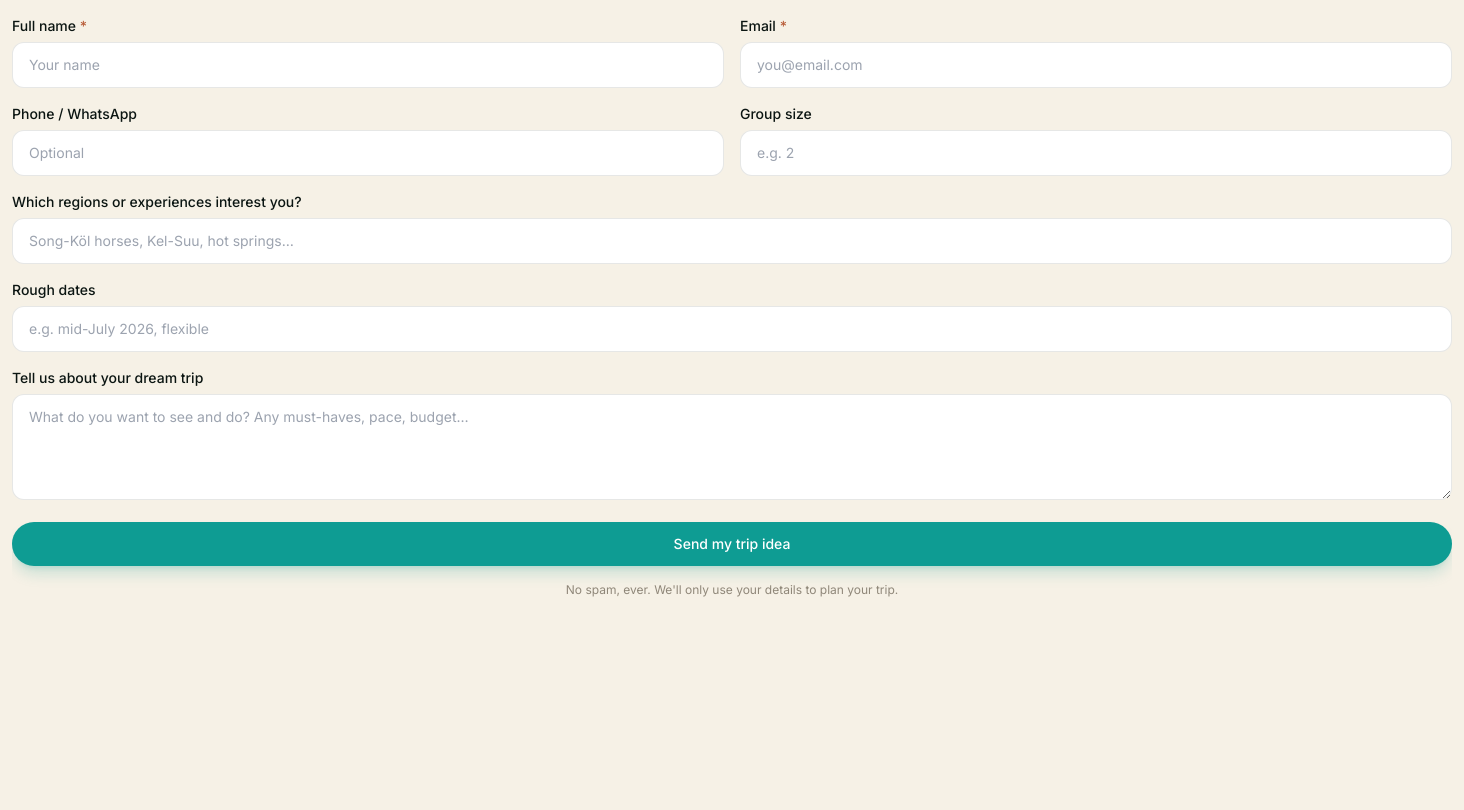
Test case: InquiryForm › posts to the custom-trips endpoint for the build-your-own variant
The image size is (1464, 810).
Type "Sofia R." into the field labelled "Full name *".
click(368, 65); type("Sofia R.")  # box [12,42,724,88]
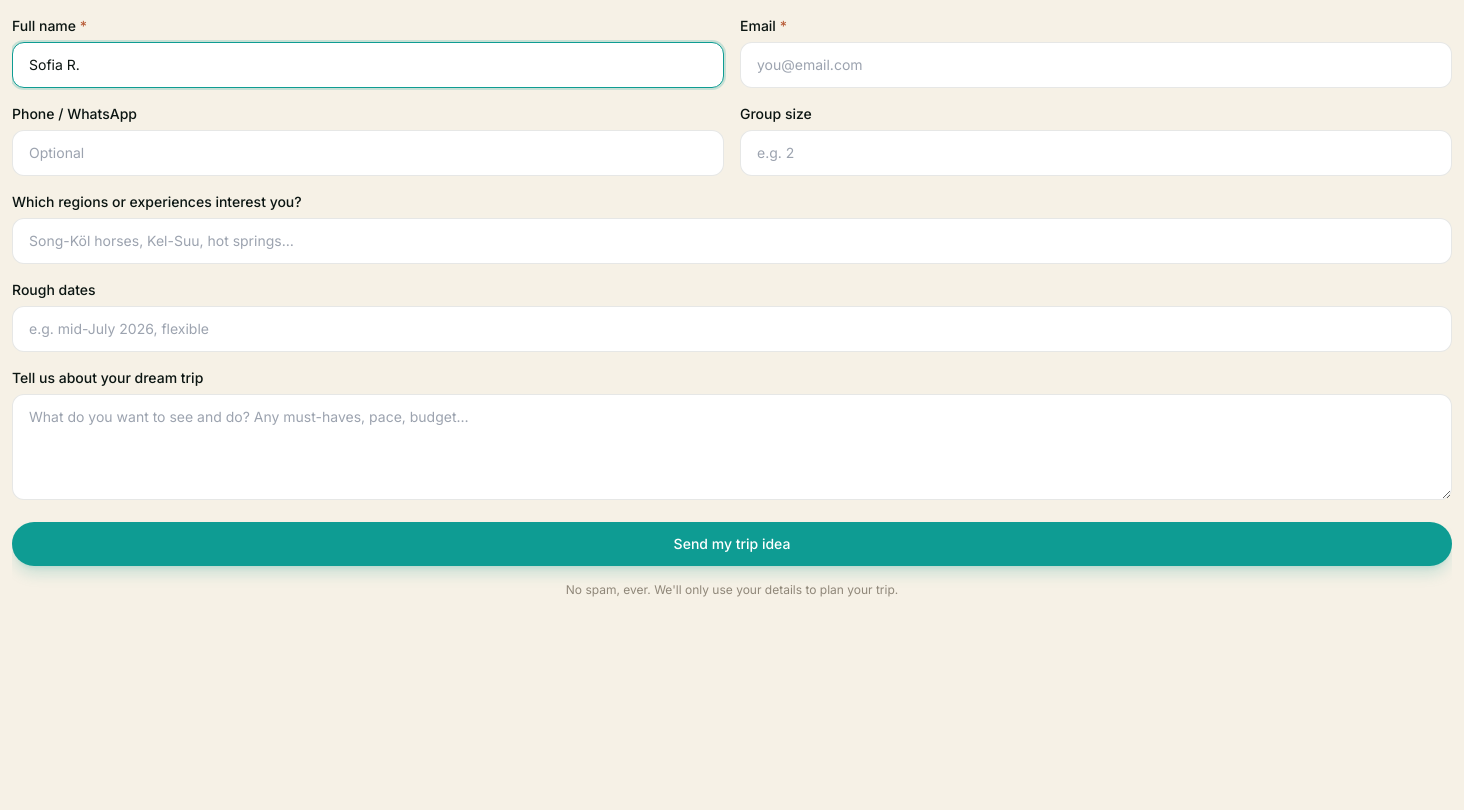
Type "sofia@example.com" into the field labelled "Email *".
click(1096, 65); type("sofia@example.com")  # box [740,42,1452,88]
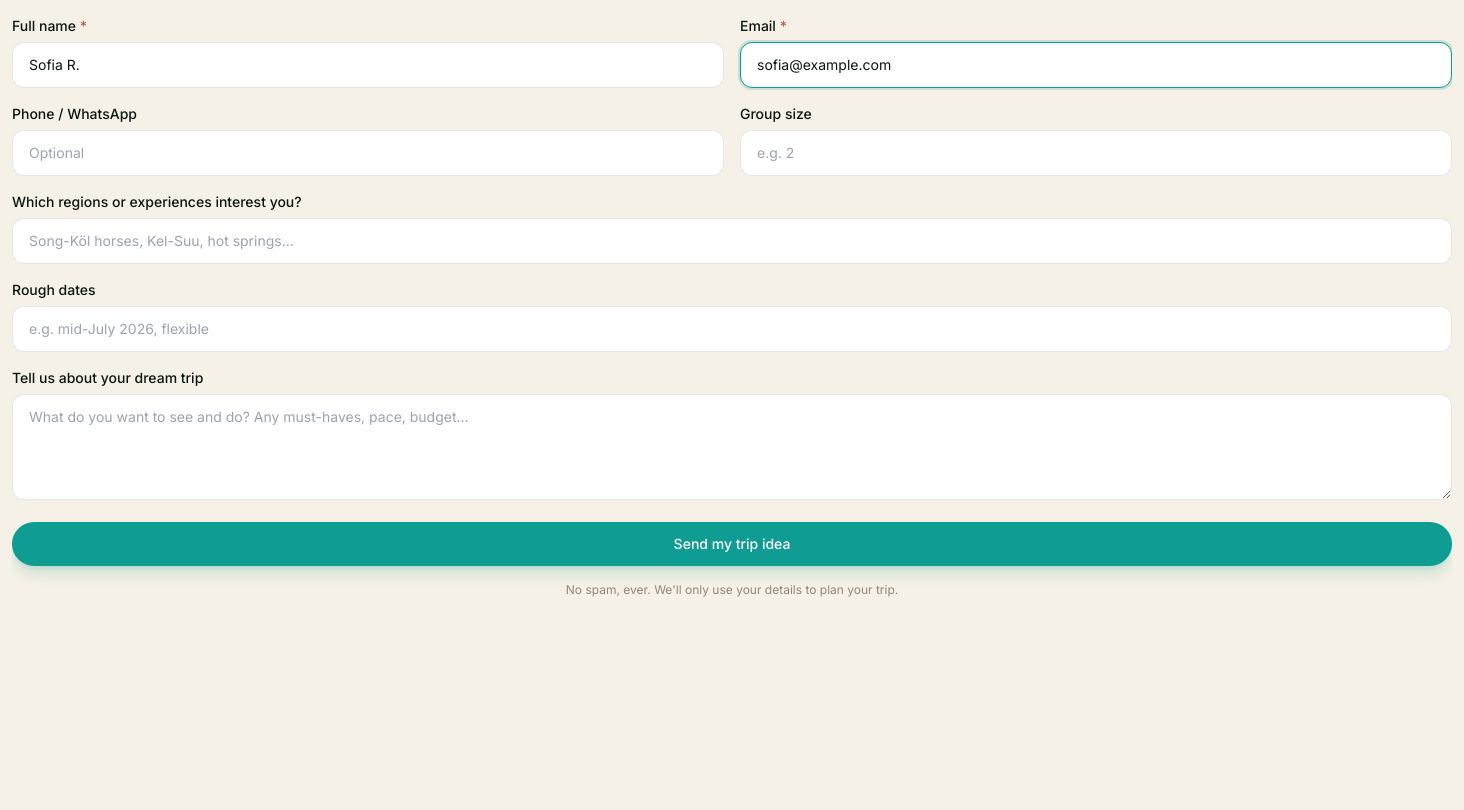
Type "Is the June departure still open?" into the text box labelled "Tell us about your dream trip".
click(732, 447); type("Is the June departure still open?")  # box [12,394,1452,500]
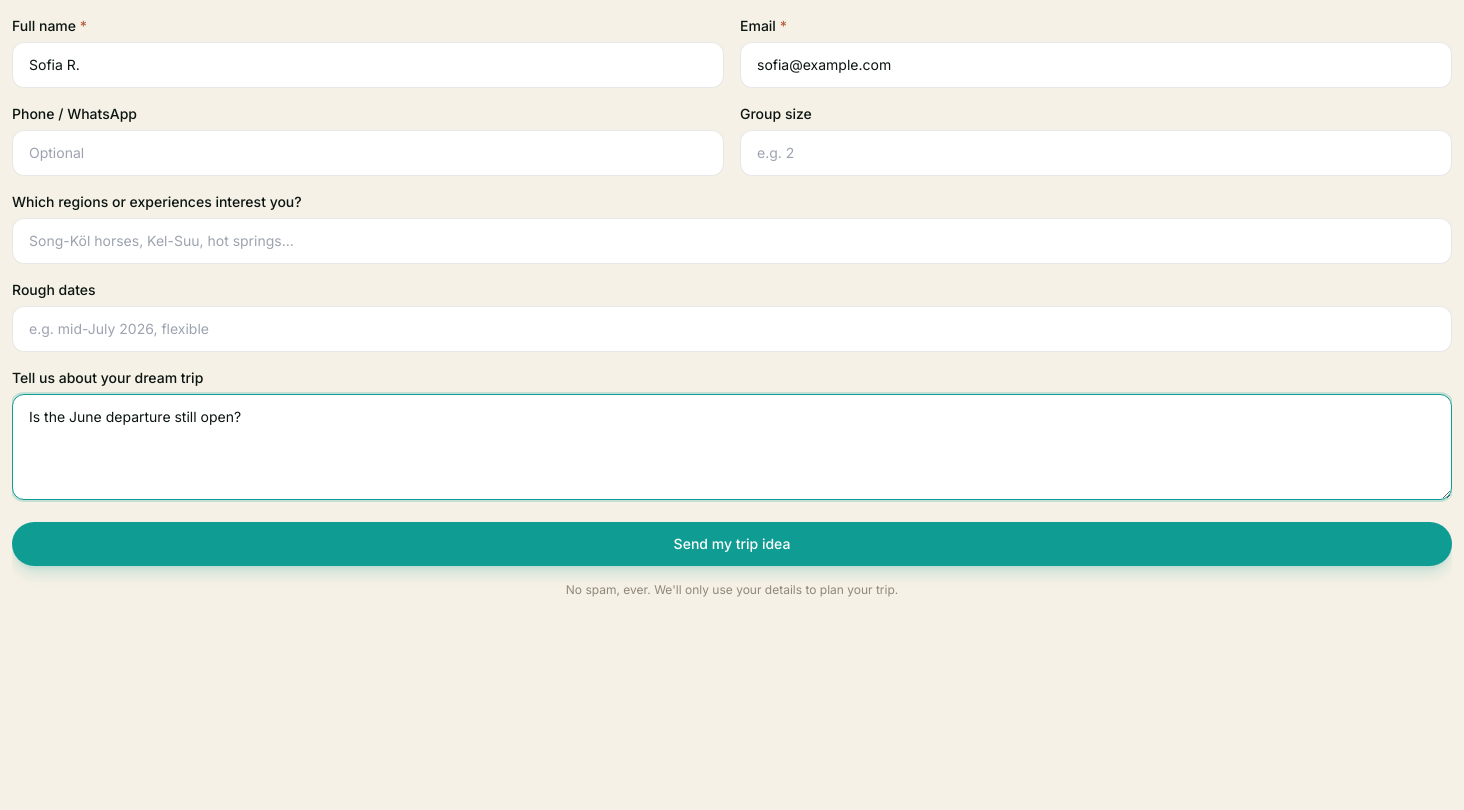
Type "Kel-Suu, horses" into the field labelled "Which regions or experiences interest you?".
click(732, 241); type("Kel-Suu, horses")  # box [12,218,1452,264]
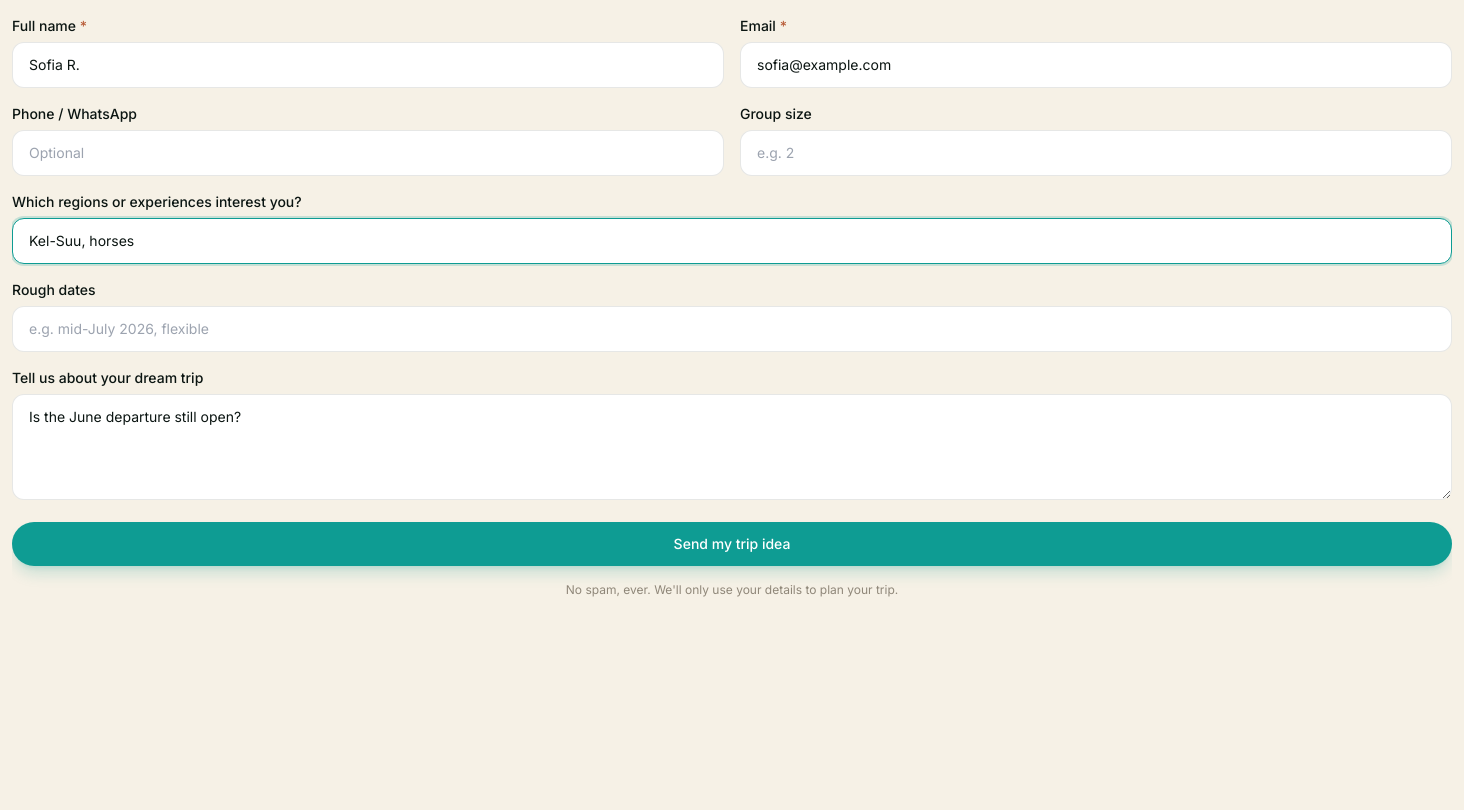
Click the button "Send my trip idea".
click(732, 544)  # box [12,522,1452,566]
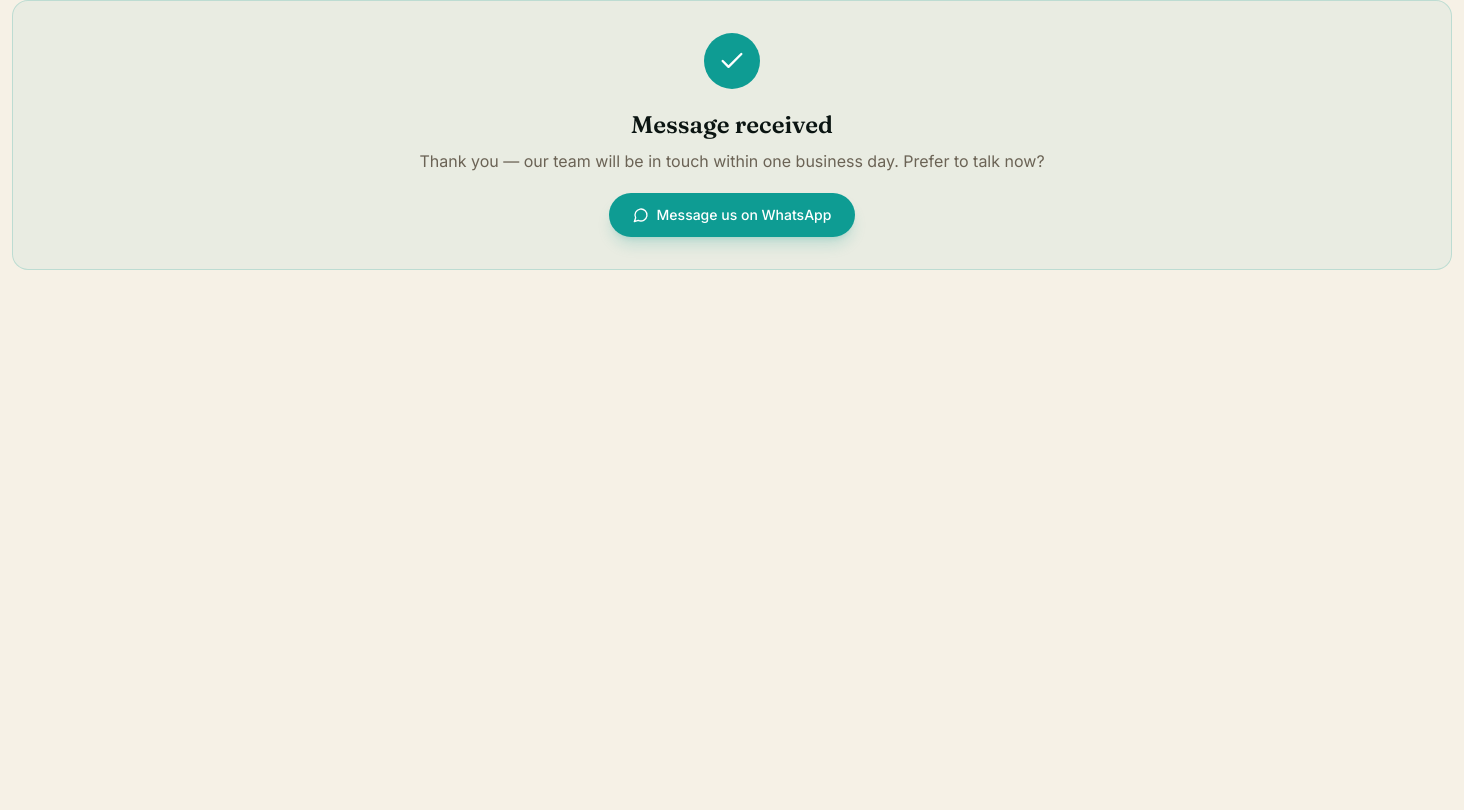
Now the heading "Message received" is shown, box [631,110,833,139]
